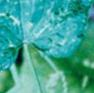Tomato leaf mosaic virus: (0, 0, 90, 91)
